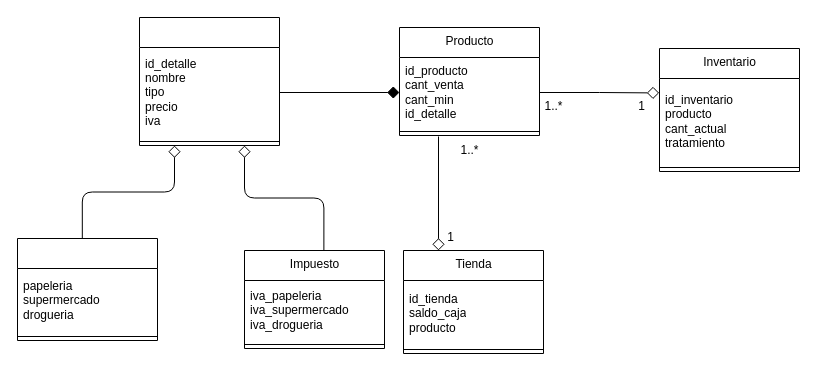
This 817x371 diagram has some shape labels left out. The box of each missing label's shape, as (x1, y1, x2, y2) in pixels:
Detalle_producto: (138, 16, 280, 146)
Tipo_producto: (16, 238, 158, 340)
